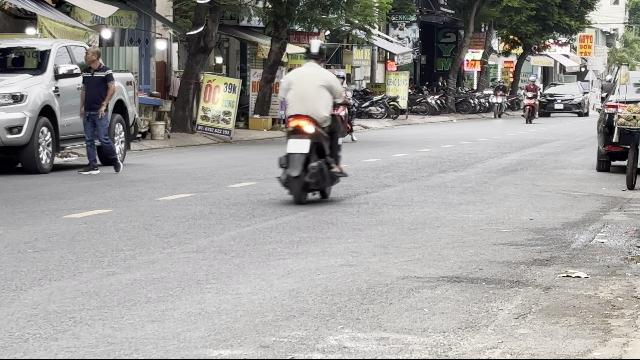helmet: (304, 38, 326, 66)
licenseplate: (287, 139, 309, 153)
motorcyclist: (275, 37, 351, 203)
